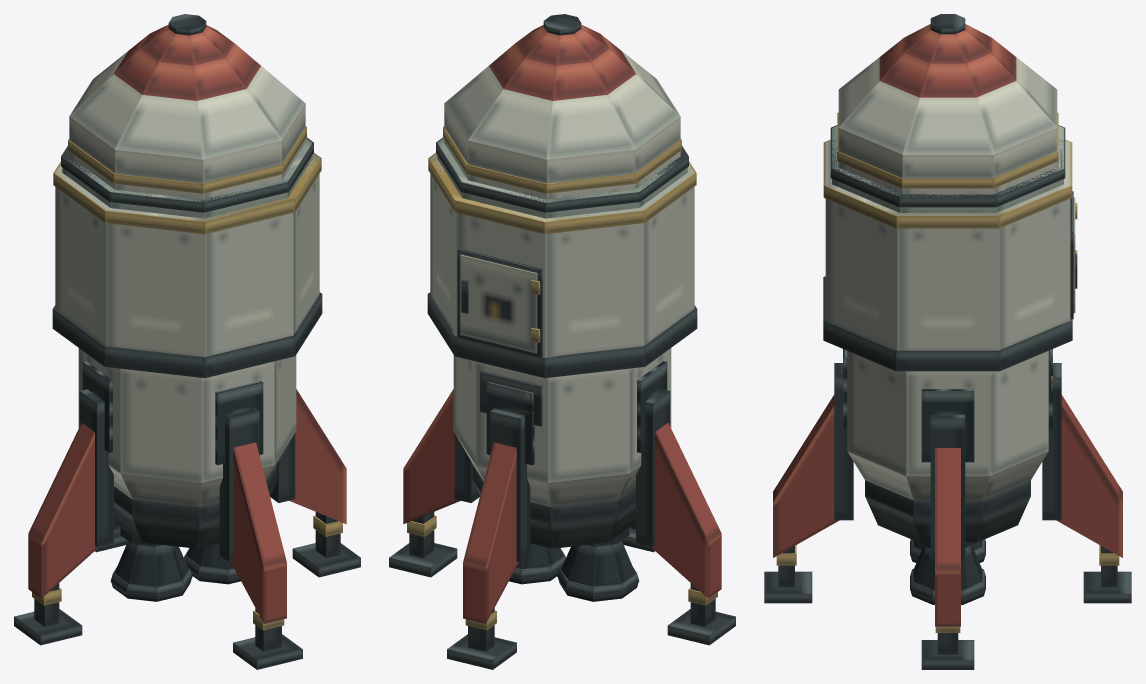
The model's file is cargo_rocket.obj.
3 renders of one model, left to right at view 1: azimuth 30°, elevation 25°; view 2: azimuth 150°, elevation 25°; view 3: azimuth 270°, elevation 25°, orthographic.
Parts seen in each view (by area): view 1: Chassis, FairingCap, FairingMiddle, FairingUpper; view 2: Chassis, FairingCap, FairingMiddle, FairingUpper; view 3: Chassis, FairingCap, FairingMiddle, FairingUpper.
Part boxes in pixels (x1,y1,x2,y2): Chassis: [14, 153, 360, 669]; FairingCap: [69, 14, 305, 183]; FairingMiddle: [61, 137, 313, 218]; FairingUpper: [68, 126, 306, 199]; Chassis: [389, 153, 735, 669]; FairingCap: [444, 14, 680, 183]; FairingMiddle: [436, 137, 688, 218]; FairingUpper: [443, 126, 681, 199]; Chassis: [764, 139, 1131, 669]; FairingCap: [838, 14, 1057, 178]; FairingMiddle: [830, 125, 1065, 212]; FairingUpper: [837, 112, 1058, 194].
Bounding box in the file's own units: 2.62 × 4.5 × 2.62.
